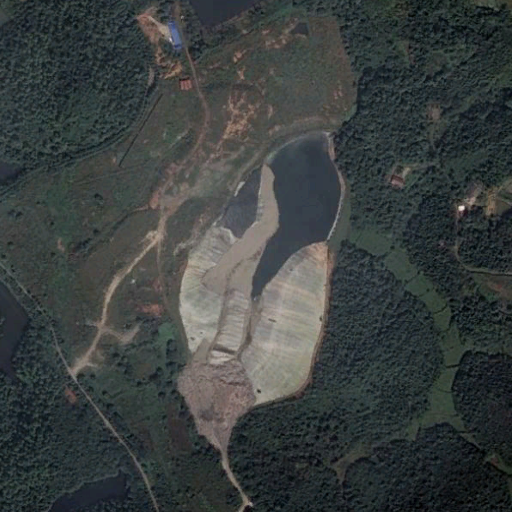lf: (180, 127, 345, 430)
